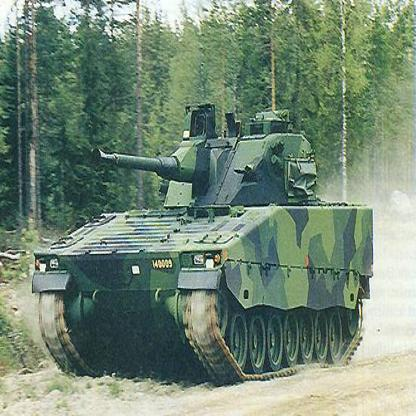Tank: (30, 102, 374, 384)
